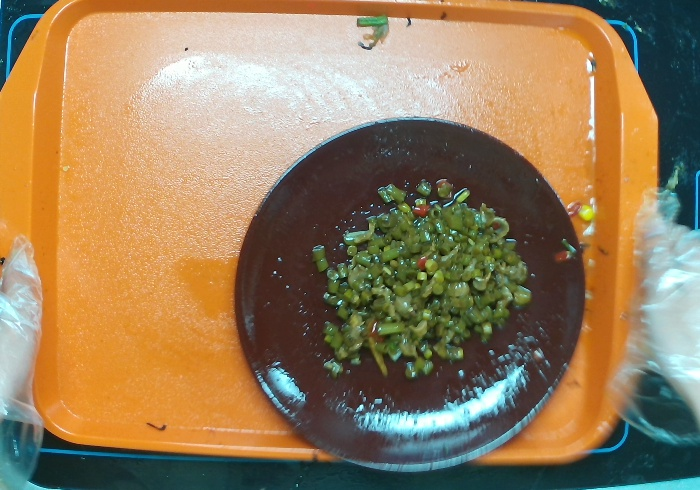HZYJPL-Ka_Fei_Yuan_Pan: (230, 117, 590, 477)
